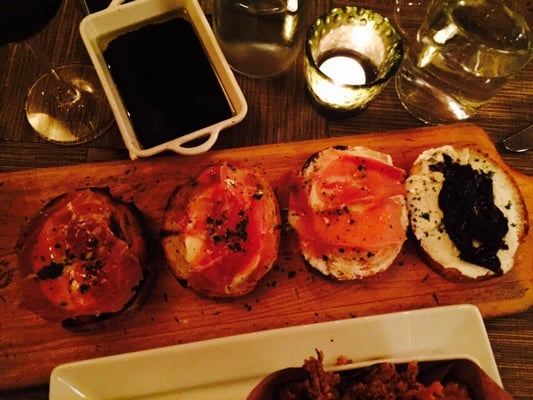pizza: (395, 0, 533, 125), (303, 6, 406, 119)
